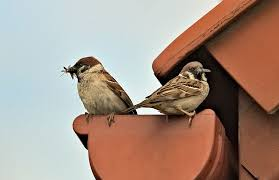home_sparrow: (123, 55, 213, 132), (43, 54, 137, 123)
